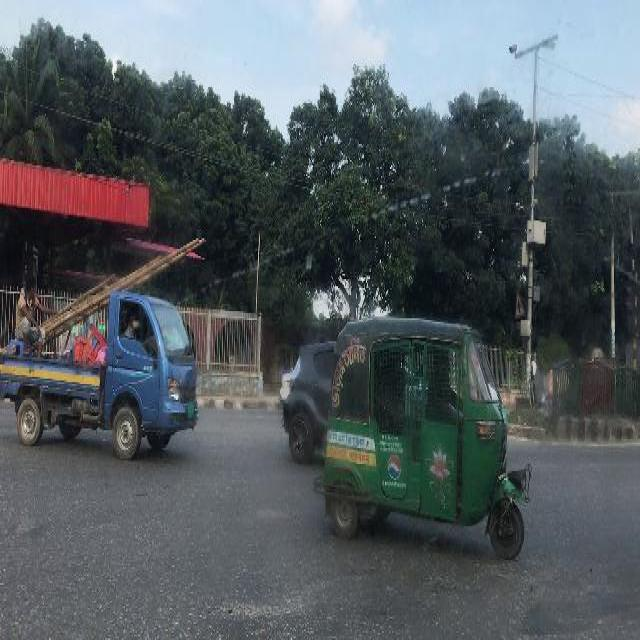pickup: (0, 283, 199, 469)
three wheelers -CNG-: (328, 319, 532, 531)
